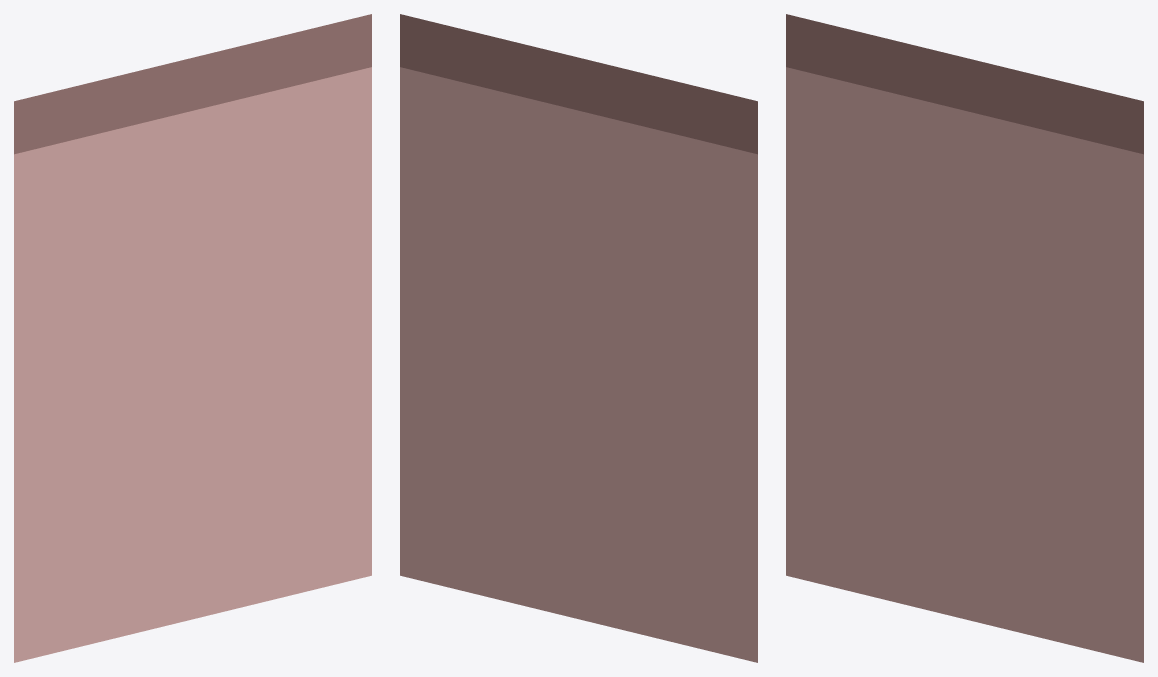
The model's file is Wall_Only.fbx.
The picture shows the model from 3 angles, left to right: view 1: azimuth 30°, elevation 25°; view 2: azimuth 150°, elevation 25°; view 3: azimuth 330°, elevation 25°; orthographic projection.
Visible parts, largest first — view 1: Wall_Only; view 2: Wall_Only; view 3: Wall_Only.
Part boxes in pixels (left/top/right/bottom): Wall_Only: left=14, top=14, right=371, bottom=662; Wall_Only: left=400, top=14, right=757, bottom=662; Wall_Only: left=786, top=14, right=1143, bottom=662.
Size of the model in its own units: 2 by 3 by 1.19e-07.
